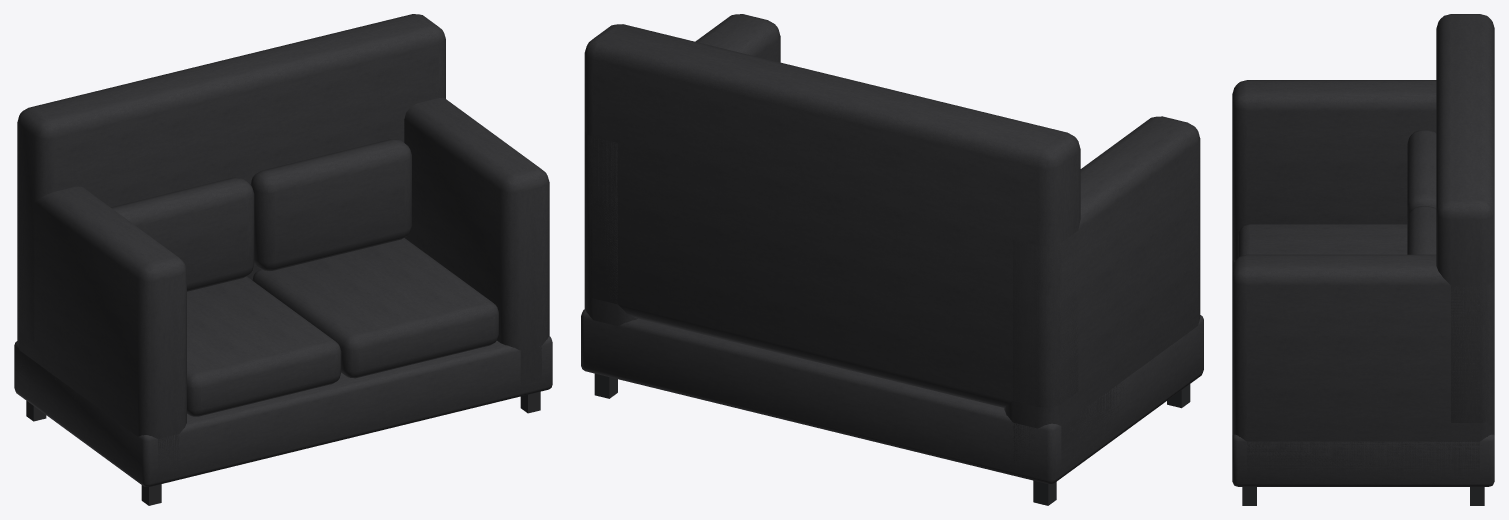
Rendered from lounge.high-back-sofa.glb.
3 views of the same model, side by side, from view 1: azimuth 30°, elevation 25°; view 2: azimuth 150°, elevation 25°; view 3: azimuth 270°, elevation 25° (orthographic). The views are drawn at different scales.
Visible parts, largest first — view 1: lounge.high-back-sofa.001; view 2: lounge.high-back-sofa.001; view 3: lounge.high-back-sofa.001.
Boxes of the visible parts, bbox=[...] form: lounge.high-back-sofa.001: bbox=[14, 14, 552, 505]; lounge.high-back-sofa.001: bbox=[581, 14, 1203, 505]; lounge.high-back-sofa.001: bbox=[1232, 14, 1494, 505].
Bounding box in the file's own units: 1.6 × 1.15 × 0.9.
Materials: 2 (1 with a texture image).
